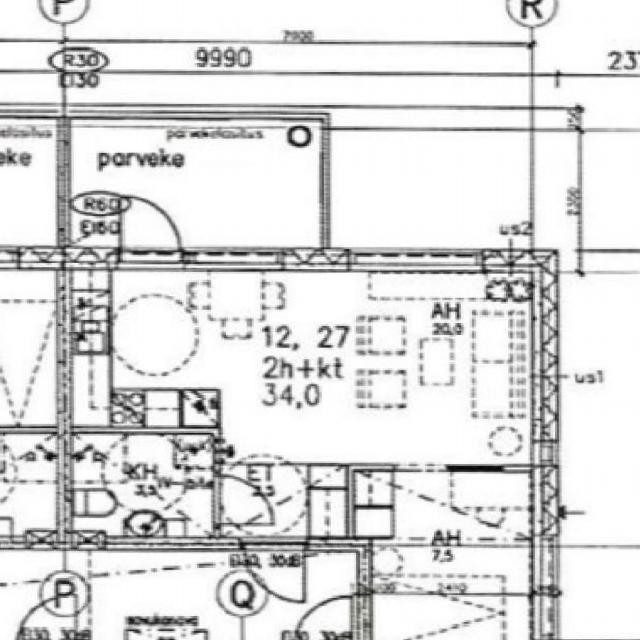door: (120, 194, 180, 272), (245, 538, 306, 609), (213, 476, 273, 525)
